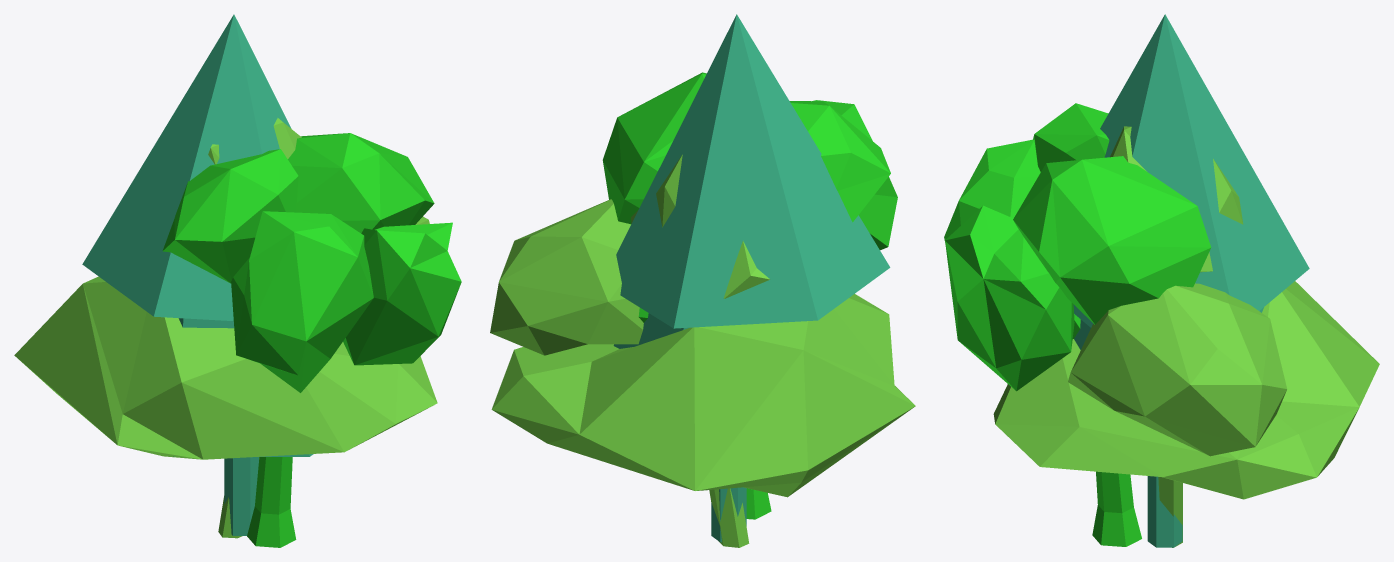
The model's file is trees.glb.
3 renders of one model, left to right at view 1: azimuth 30°, elevation 25°; view 2: azimuth 150°, elevation 25°; view 3: azimuth 270°, elevation 25°, orthographic.
Parts seen in each view (by area): view 1: Tree_Type0_05_mesh, Tree_Type4_01_mesh, Tree_Type1_01_mesh; view 2: Tree_Type4_01_mesh, Tree_Type1_01_mesh, Tree_Type0_05_mesh; view 3: Tree_Type4_01_mesh, Tree_Type0_05_mesh, Tree_Type1_01_mesh.
Part boxes in pixels (x1=…): Tree_Type0_05_mesh: x1=162, y1=133, x2=461, y2=547; Tree_Type4_01_mesh: x1=14, y1=118, x2=437, y2=538; Tree_Type1_01_mesh: x1=82, y1=14, x2=313, y2=535; Tree_Type4_01_mesh: x1=490, y1=154, x2=915, y2=547; Tree_Type1_01_mesh: x1=613, y1=14, x2=890, y2=542; Tree_Type0_05_mesh: x1=602, y1=72, x2=897, y2=519; Tree_Type4_01_mesh: x1=993, y1=126, x2=1379, y2=547; Tree_Type0_05_mesh: x1=944, y1=103, x2=1211, y2=546; Tree_Type1_01_mesh: x1=1073, y1=14, x2=1309, y2=547.
Bounding box in the file's own units: 0.9602 × 1.35 × 1.01.
